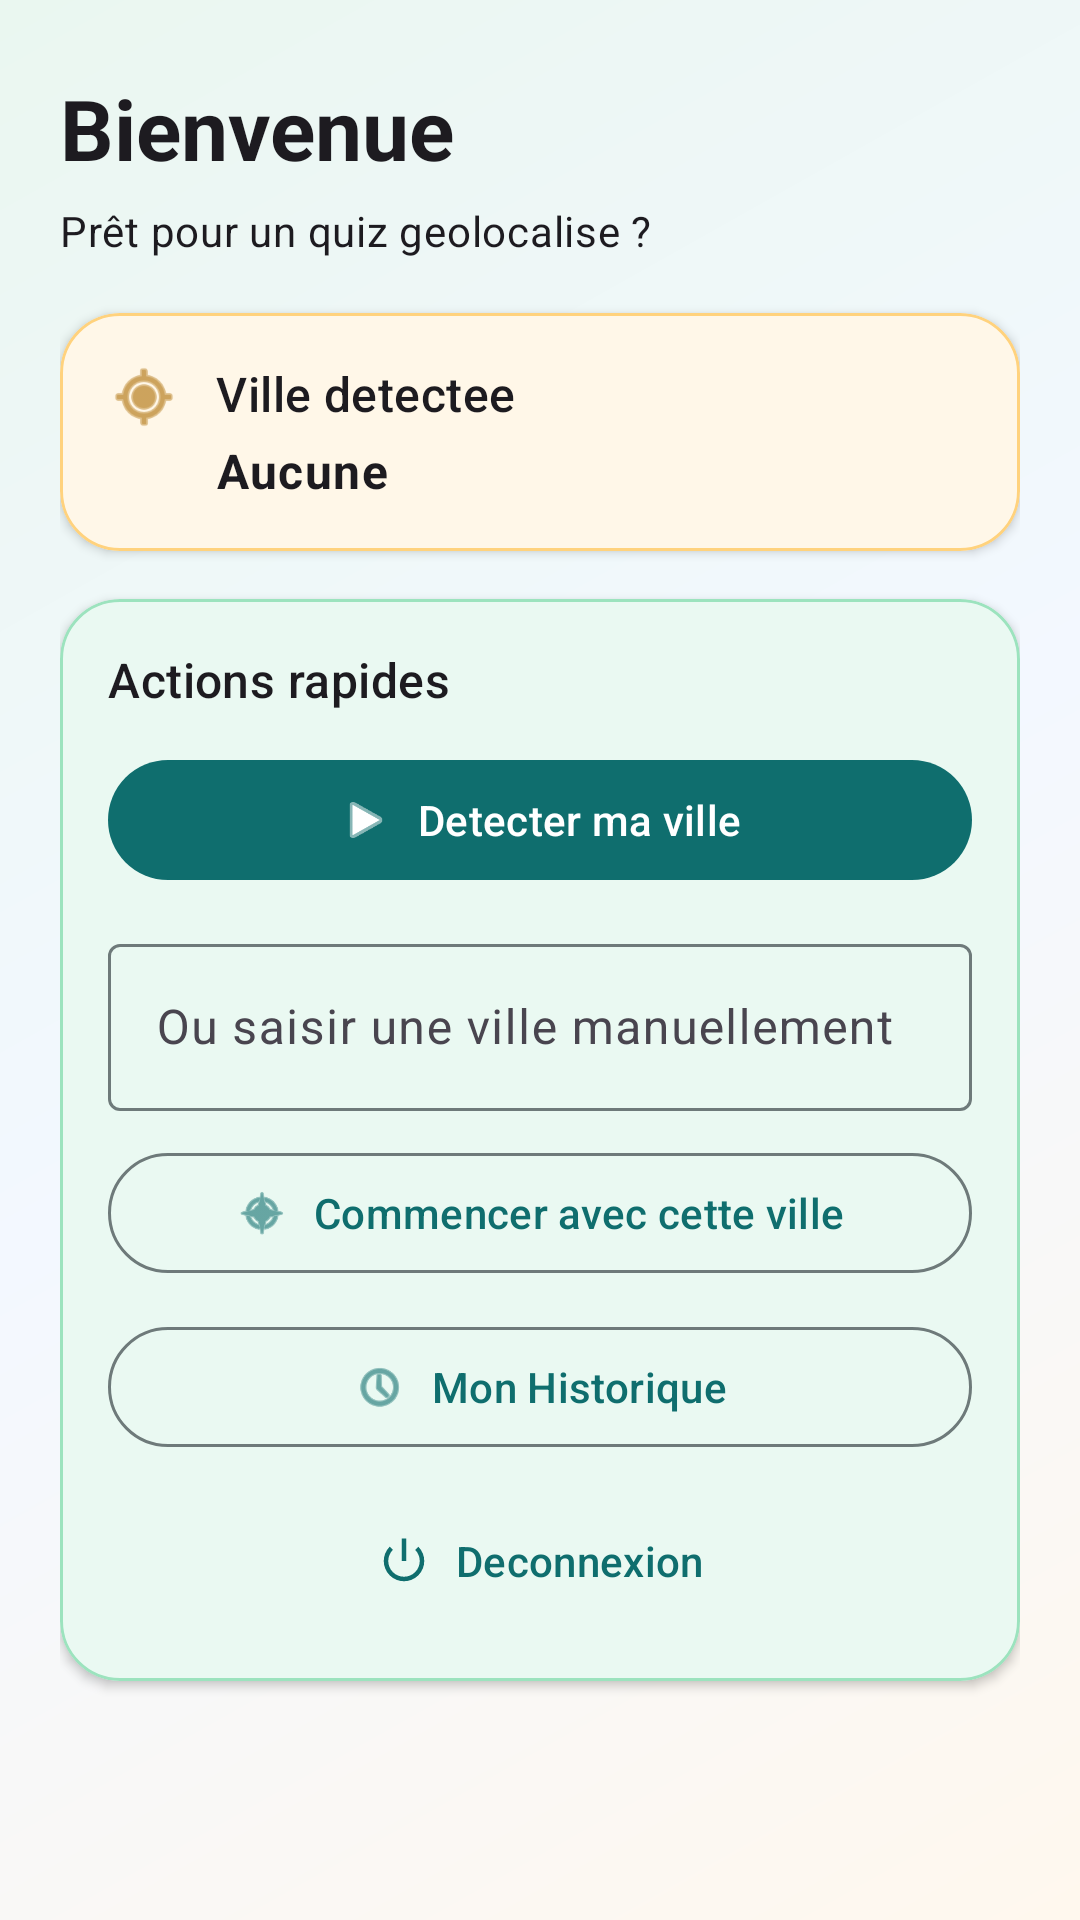

Where to tap for icons on this 1080px×1920px app screen, as (x=x, y=y):
mylocation: (x=144, y=397)
